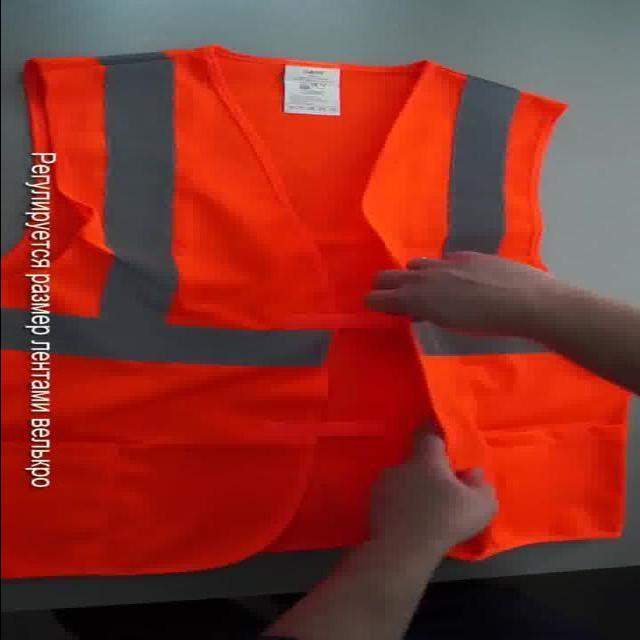vest: (0, 46, 640, 580)
